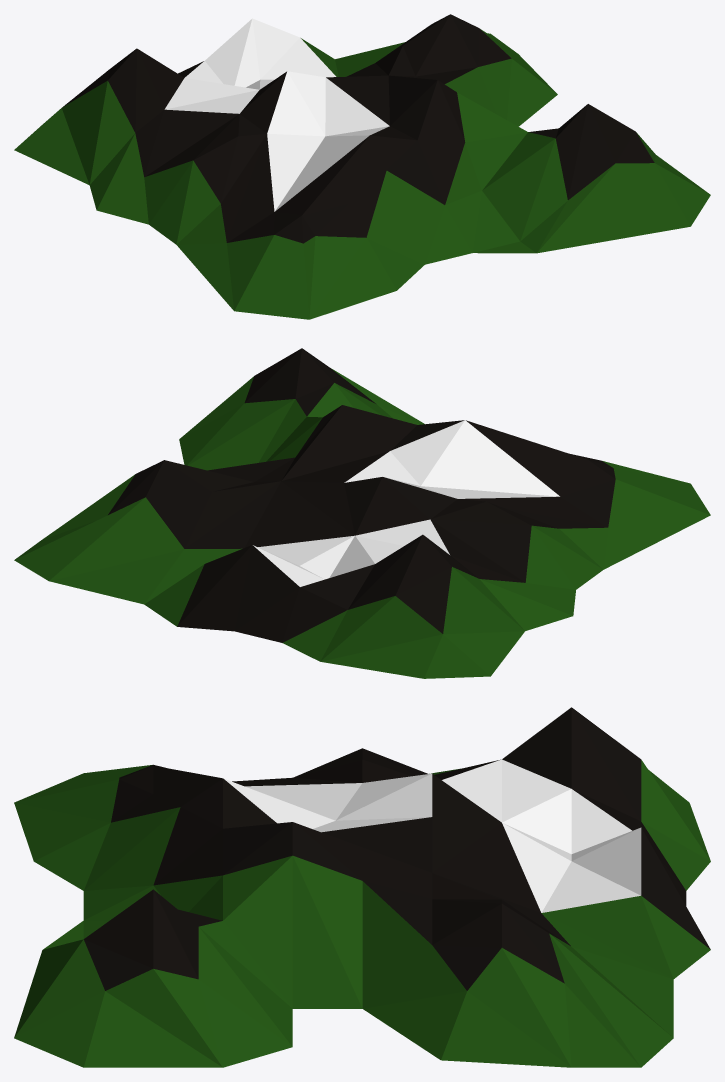
Rendered from Mountain_9.fbx.
3 views of the same model, one above another, from view 1: azimuth 30°, elevation 25°; view 2: azimuth 150°, elevation 25°; view 3: azimuth 270°, elevation 25° (orthographic). The views are drawn at different scales.
Parts seen in each view (by area): view 1: Mountain_9; view 2: Mountain_9; view 3: Mountain_9.
Boxes of the visible parts, x1=… form: Mountain_9: x1=14, y1=14, x2=710, y2=319; Mountain_9: x1=14, y1=348, x2=710, y2=678; Mountain_9: x1=14, y1=707, x2=710, y2=1067.
Size of the model in its own units: 1298 by 263 by 1298.
